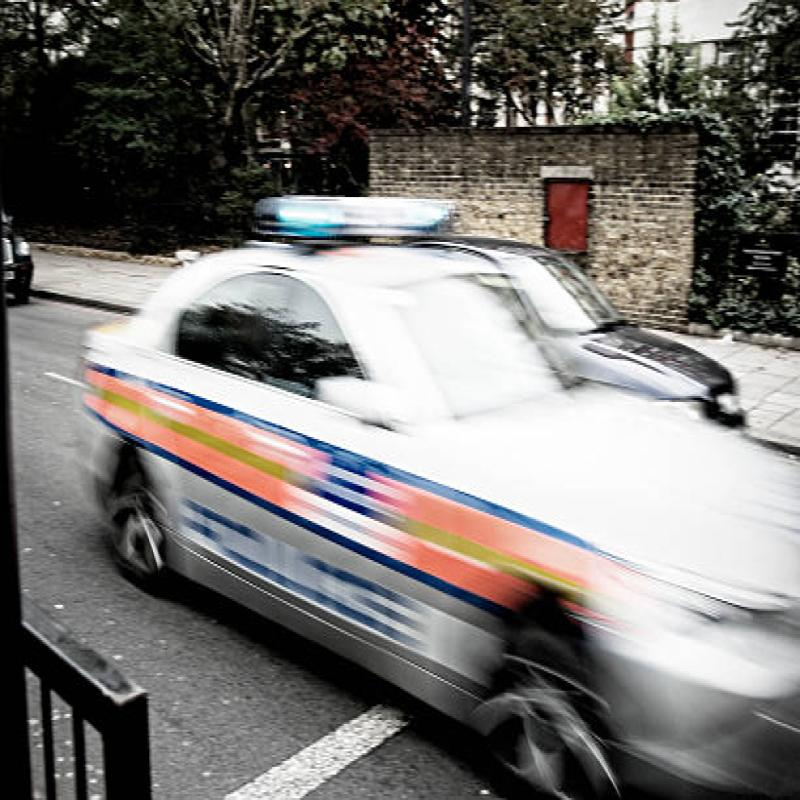AmbulanceSiren: (247, 165, 448, 265)
